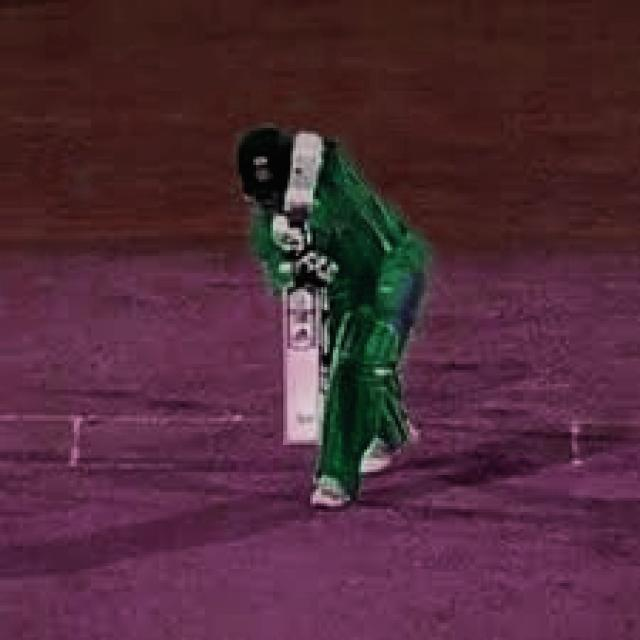bat: (284, 284, 321, 447)
toe: (284, 433, 323, 449)
